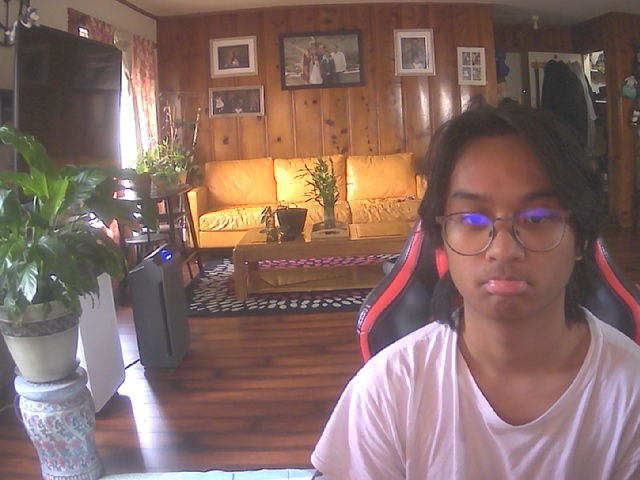sad: (434, 110, 592, 321)
